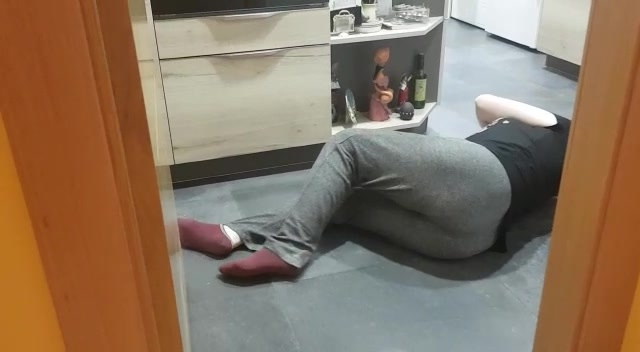fall: (166, 86, 574, 282)
